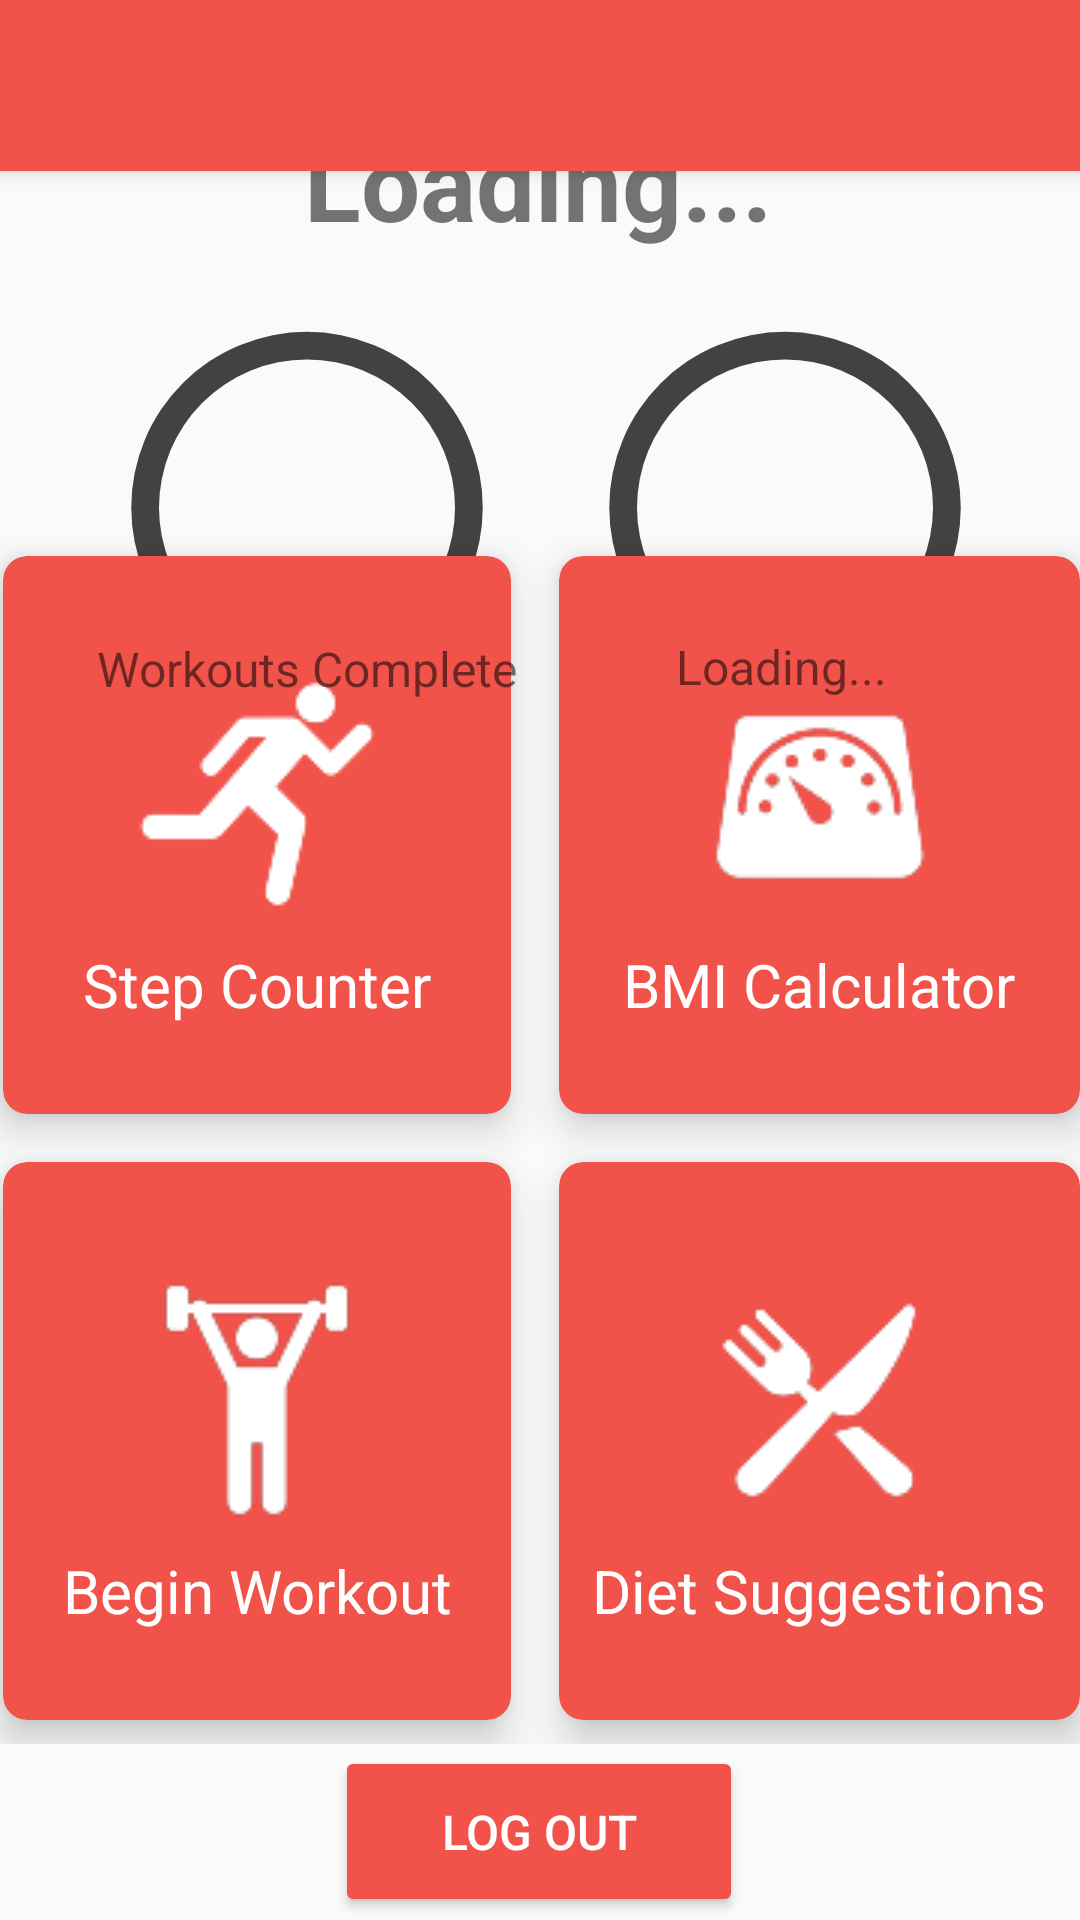

Locate icon controls on the screen. Image size 1080x1920, boxes as detection(x1, y1, x2, y2).
fit: detection(164, 1285, 349, 1515)
running: detection(140, 651, 407, 906)
